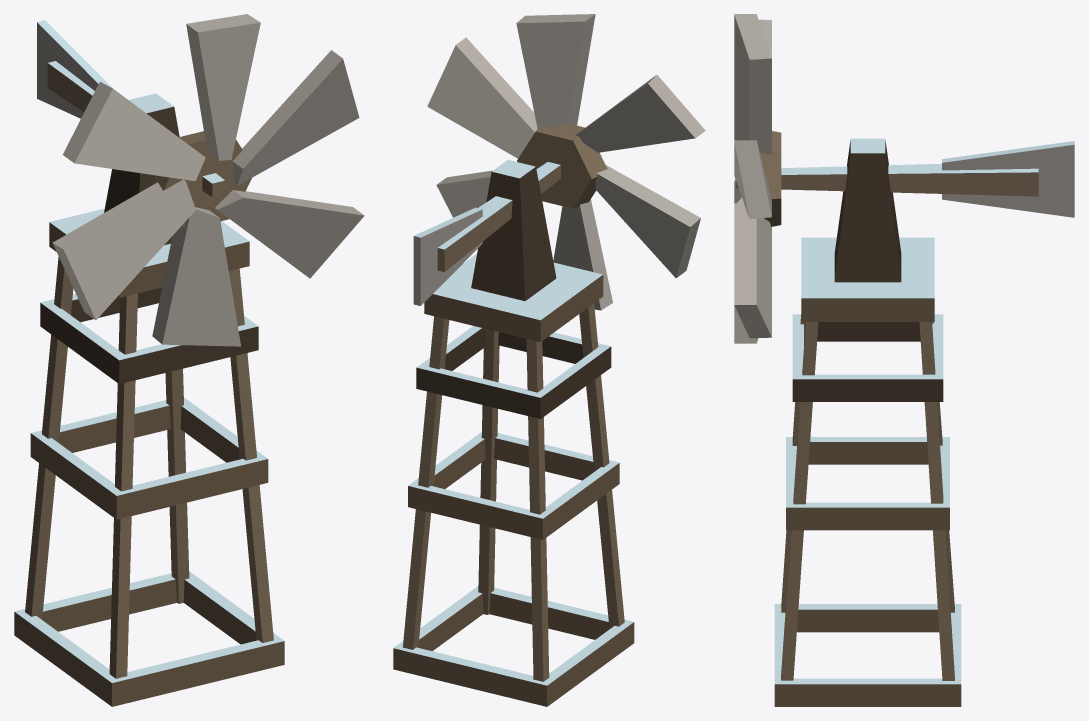
File: SM_Bld_Western_Windmill_01_Snow.glb
The picture shows the model from 3 angles, left to right: view 1: azimuth 30°, elevation 25°; view 2: azimuth 150°, elevation 25°; view 3: azimuth 270°, elevation 25°; orthographic projection. The views are drawn at different scales.
Parts seen in each view (by area): view 1: SM_Bld_Western_Windmill_01_Snow, SM_Bld_Western_Windmill_Blades_01_Snow, SM_Bld_Western_Windmill_Top_01_Snow; view 2: SM_Bld_Western_Windmill_01_Snow, SM_Bld_Western_Windmill_Blades_01_Snow, SM_Bld_Western_Windmill_Top_01_Snow; view 3: SM_Bld_Western_Windmill_01_Snow, SM_Bld_Western_Windmill_Top_01_Snow, SM_Bld_Western_Windmill_Blades_01_Snow.
Boxes of the visible parts, x1,y1,x2,y2 form: SM_Bld_Western_Windmill_01_Snow: (14, 208, 284, 706); SM_Bld_Western_Windmill_Blades_01_Snow: (52, 14, 364, 346); SM_Bld_Western_Windmill_Top_01_Snow: (37, 20, 224, 244); SM_Bld_Western_Windmill_01_Snow: (393, 253, 634, 706); SM_Bld_Western_Windmill_Blades_01_Snow: (427, 14, 705, 310); SM_Bld_Western_Windmill_Top_01_Snow: (413, 160, 560, 305); SM_Bld_Western_Windmill_01_Snow: (774, 237, 961, 706); SM_Bld_Western_Windmill_Top_01_Snow: (736, 138, 1074, 282); SM_Bld_Western_Windmill_Blades_01_Snow: (734, 14, 781, 343).
Bounding box in the file's own units: 0.8501 × 1.85 × 0.8883.
3 materials, 3 textured.
